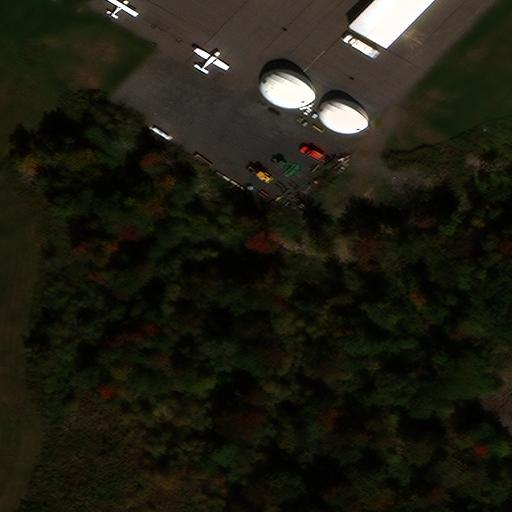Small Civil Transport: (196, 47, 230, 71), (108, 0, 139, 16)
